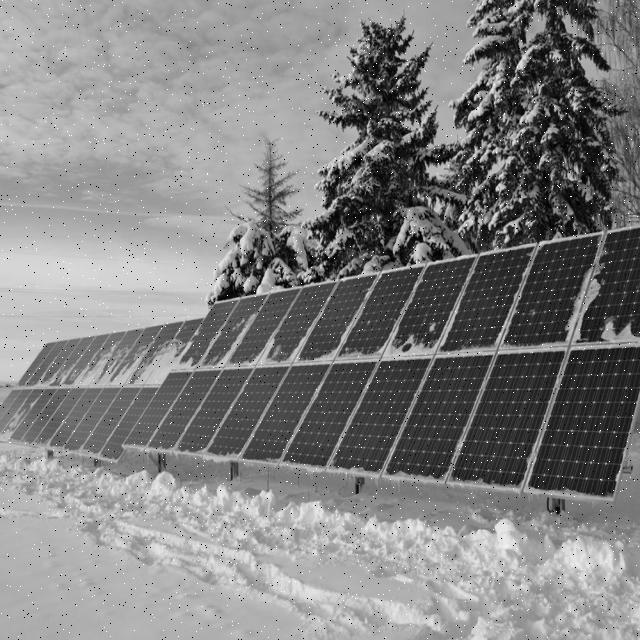snow covered: (13, 228, 640, 394)
